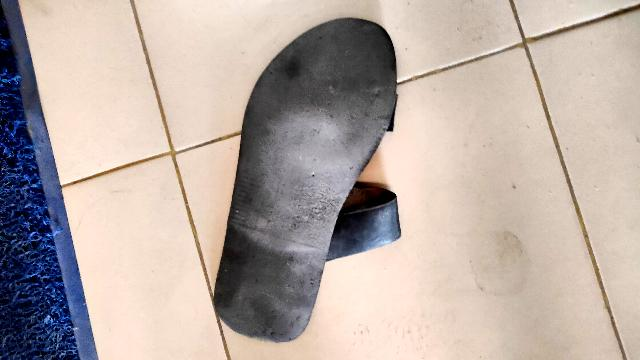sandal: (189, 1, 425, 350)
